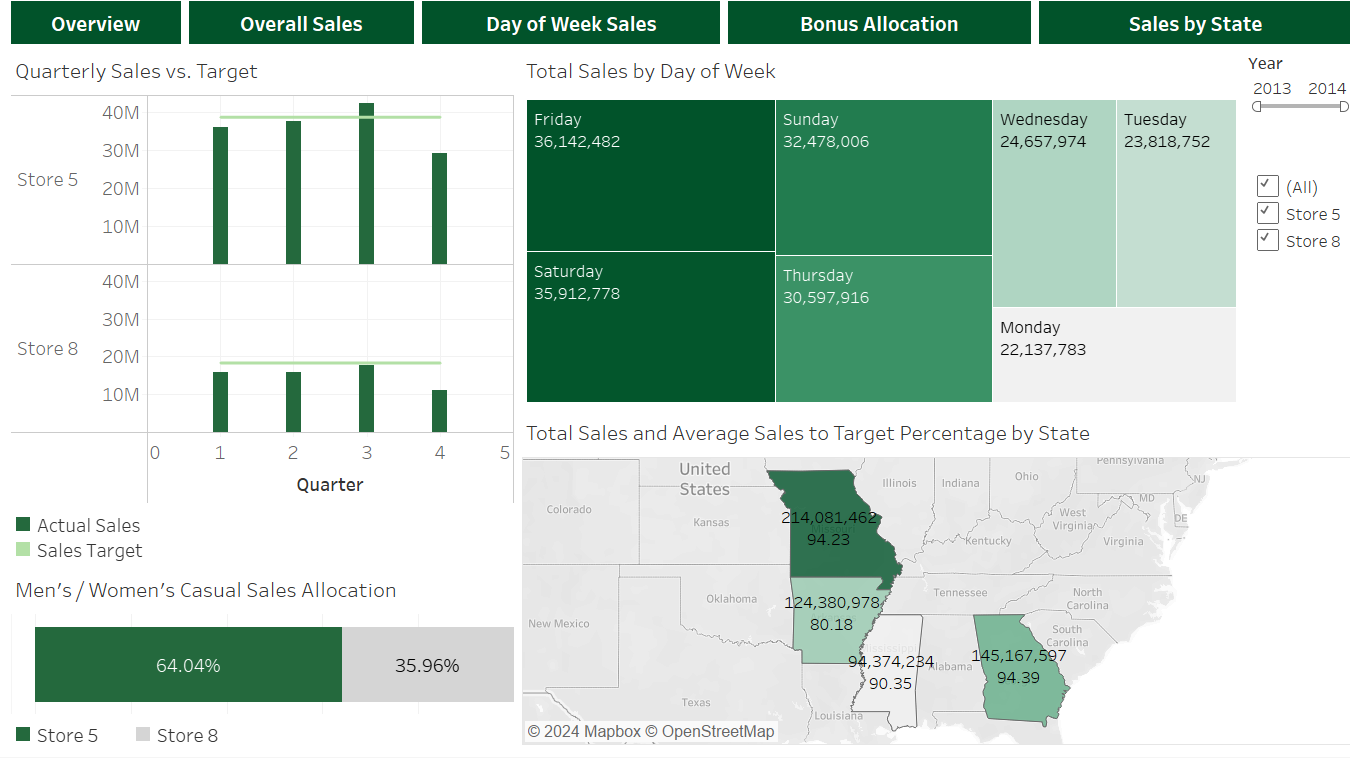

The page's visual inventory and layout, read from the dashboard file:
{"tool":"tableau","page":{"name":"Overview","canvas":[1366,768],"ordinal":3},"visuals":[{"type":"dashboard-object","box":[8,8,177.9,51]},{"type":"dashboard-object","box":[185.9,8,233,51]},{"type":"dashboard-object","box":[418.9,8,306,51]},{"type":"dashboard-object","box":[724.9,8,311,51]},{"type":"dashboard-object","box":[1035.9,8,322.1,51]},{"type":"worksheet","title":"Sheet 4","mark":"Automatic","rows":["STORENAME","QUARTERLYSALEAMOUNT","QUARTERLYSALESTARGET"],"cols":["QUARTER"],"box":[8,59,511,459.5]},{"type":"worksheet","title":"Sheet 2","mark":"Automatic","box":[519,59,726,362]},{"type":"filter","title":"Sheet 2","param":"[federated.1ld0mg40jkbz5j1c2tbfz1tygjmd].[none:YEAR:qk]","box":[1245,59,113,118]},{"type":"filter","title":"Sheet 2","param":"[federated.1ld0mg40jkbz5j1c2tbfz1tygjmd].[none:STORENAME:nk]","box":[1245,177,113,244]},{"type":"worksheet","title":"Sheet 7","mark":"Automatic","box":[519,421,839,339]},{"type":"legend","title":"Sheet 4","param":"[federated.1uvir9901osu8k1gihykn0hzlnw8].[:Measure Names]","box":[8,518.5,511,59.7]},{"type":"worksheet","title":"Sheet 6 (2)","mark":"Automatic","cols":["TOTALSALES"],"box":[8,578.2,511,150.6]},{"type":"legend","title":"Sheet 6 (2)","param":"[federated.0ay6p1i0srvdq614s8j370q6xabi].[none:STORENAME:ok]","box":[8,728.8,511,31.2]}]}

Visuals, with their boxes in screenshot pixels (x1, y1, x2, y2), scaled from the page's 1366x768 canvas onto the 1350x758 screenshot:
dashboard-object: Rect(8, 8, 184, 58)
dashboard-object: Rect(184, 8, 414, 58)
dashboard-object: Rect(414, 8, 716, 58)
dashboard-object: Rect(716, 8, 1024, 58)
dashboard-object: Rect(1024, 8, 1342, 58)
"Sheet 4" worksheet: Rect(8, 58, 513, 512)
"Sheet 2" worksheet: Rect(513, 58, 1230, 416)
"Sheet 2" filter: Rect(1230, 58, 1342, 175)
"Sheet 2" filter: Rect(1230, 175, 1342, 416)
"Sheet 7" worksheet: Rect(513, 416, 1342, 750)
"Sheet 4" legend: Rect(8, 512, 513, 571)
"Sheet 6 (2)" worksheet: Rect(8, 571, 513, 719)
"Sheet 6 (2)" legend: Rect(8, 719, 513, 750)
